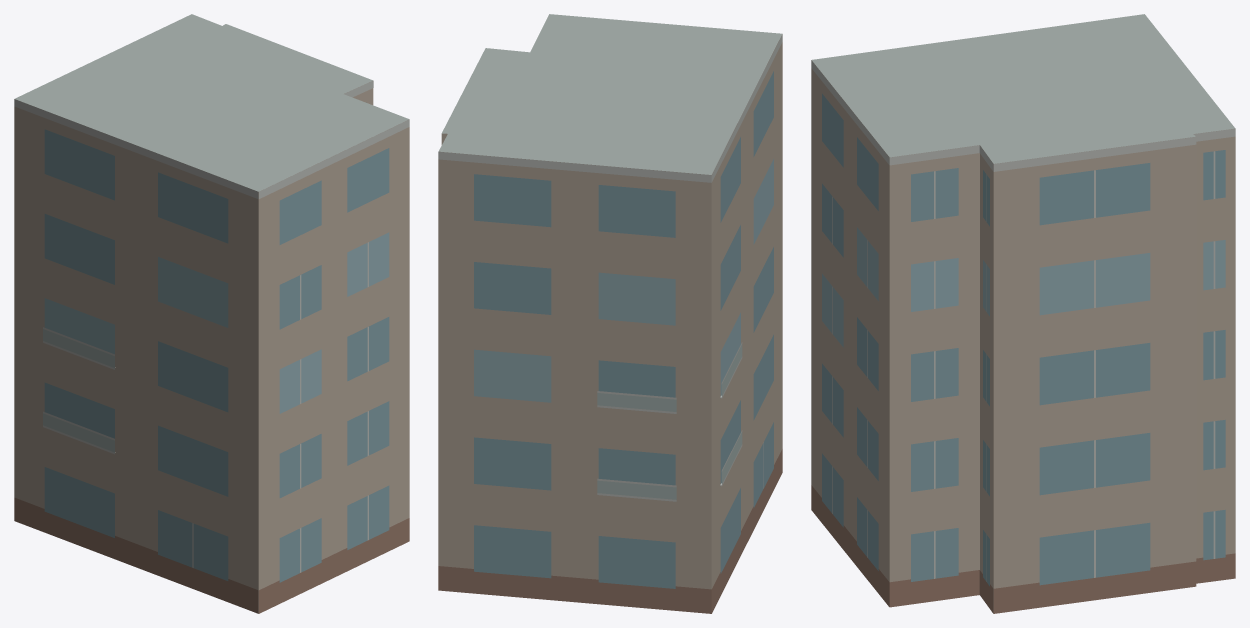
Rendered from survey-upis-32768171.glb.
3 views of the same model, side by side, from view 1: azimuth 30°, elevation 25°; view 2: azimuth 150°, elevation 25°; view 3: azimuth 270°, elevation 25° (orthographic). The views are drawn at different scales.
Visible parts, largest first — view 1: survey-upis-32768171.tmp; view 2: survey-upis-32768171.tmp; view 3: survey-upis-32768171.tmp.
Part boxes in pixels (x1=…): survey-upis-32768171.tmp: x1=14, y1=14, x2=409, y2=613; survey-upis-32768171.tmp: x1=438, y1=14, x2=782, y2=613; survey-upis-32768171.tmp: x1=811, y1=14, x2=1235, y2=613.
Size of the model in its own units: 9.8 by 13.7 by 11.72.
